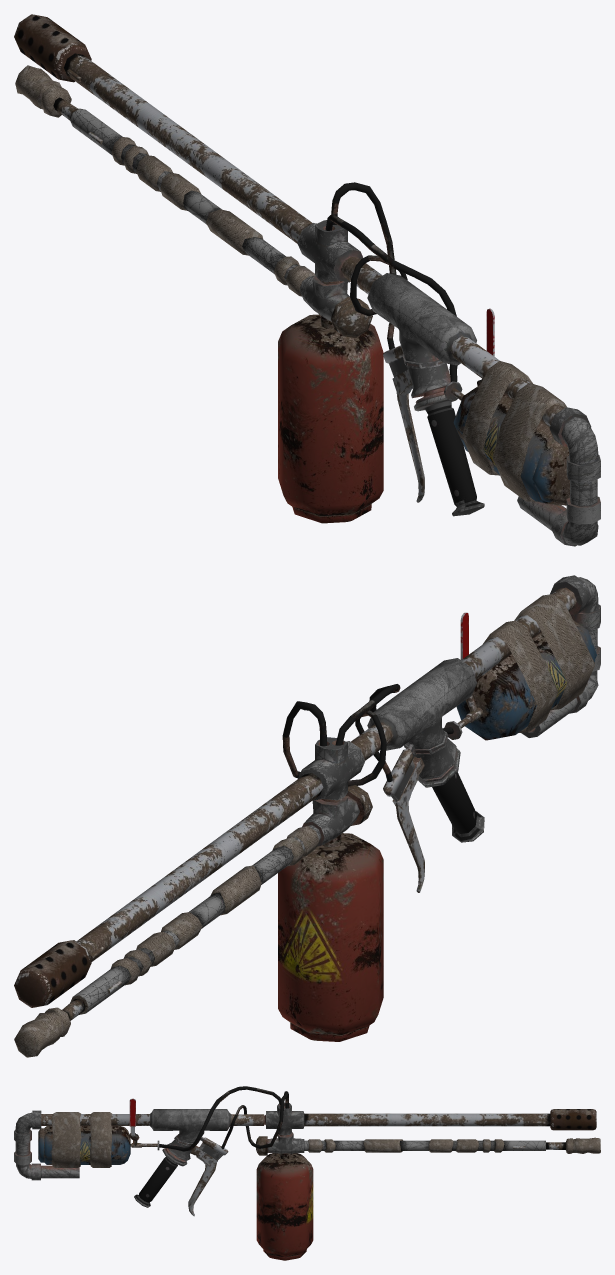
File: flamer.fbx
3 renders of one model, top to bottom at view 1: azimuth 30°, elevation 25°; view 2: azimuth 150°, elevation 25°; view 3: azimuth 270°, elevation 25°, orthographic. The views are drawn at different scales.
Parts seen in each view (by area): view 1: Body; view 2: Body; view 3: Body.
Boxes of the visible parts, <box> form: Body: <box>14,14,600,546</box>; Body: <box>14,575,600,1057</box>; Body: <box>14,1086,600,1260</box>.
Bounding box in the file's own units: 0.1035 × 0.3128 × 1.
Materials: 1 (1 with a texture image).
